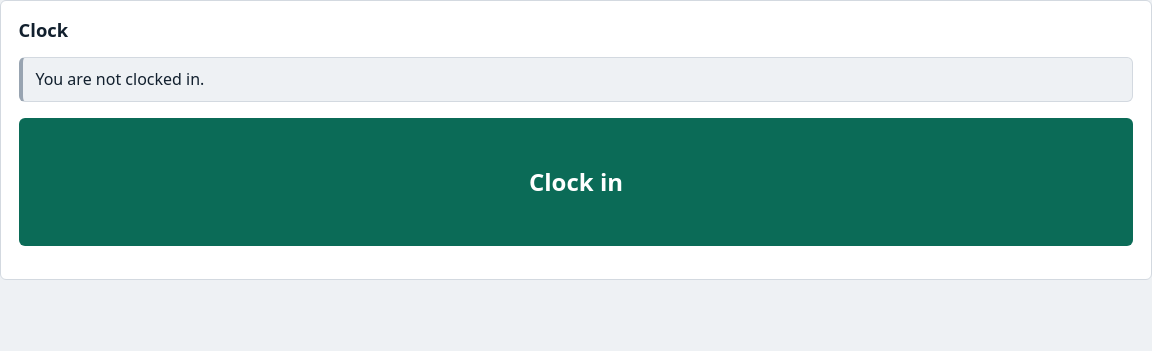
disables the button while a request is in flight
Later steps or results of the test are not shown.
Click the button "Clock in" at (576, 182), box [19, 118, 1133, 246]
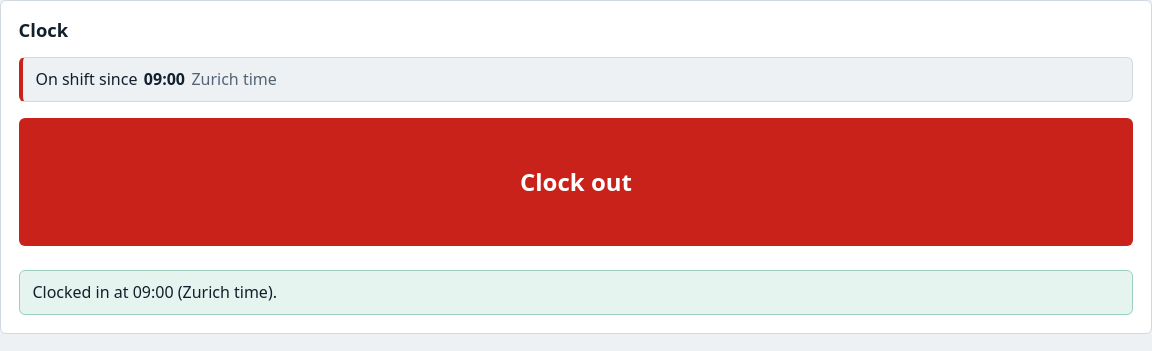
Now the button "Clock out" is shown, box [19, 118, 1133, 246]
